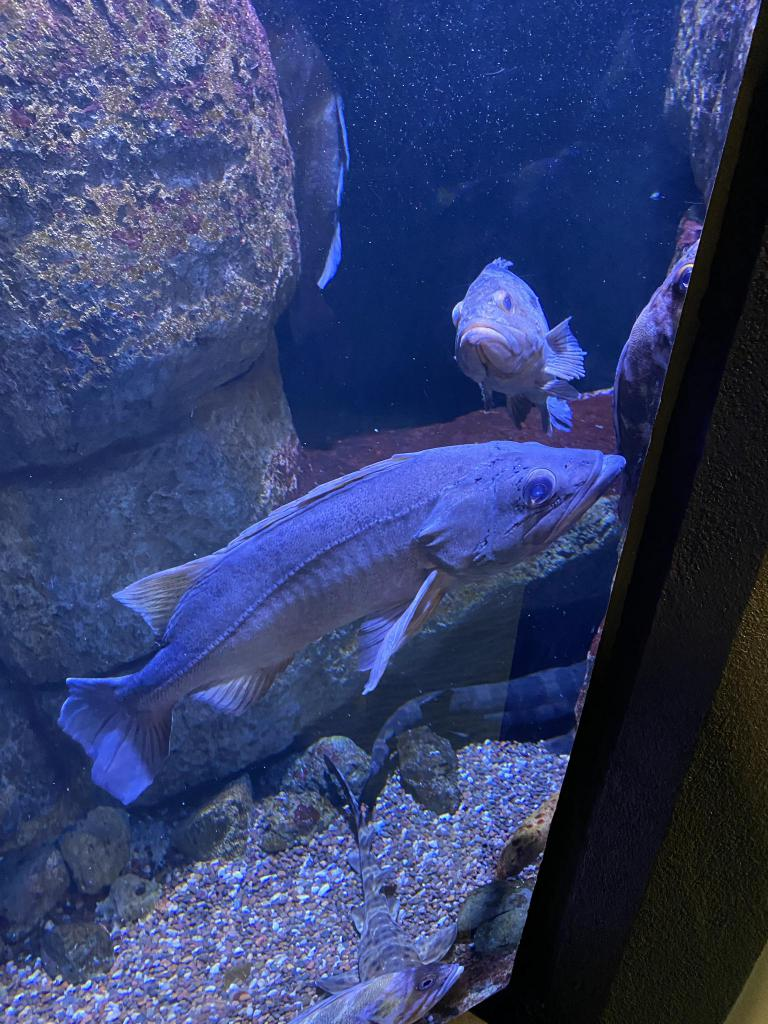fish: (60, 440, 628, 806), (616, 235, 706, 527), (450, 256, 584, 436), (282, 86, 346, 342), (290, 961, 466, 1023)
shark: (354, 654, 598, 816), (316, 752, 456, 1024)
